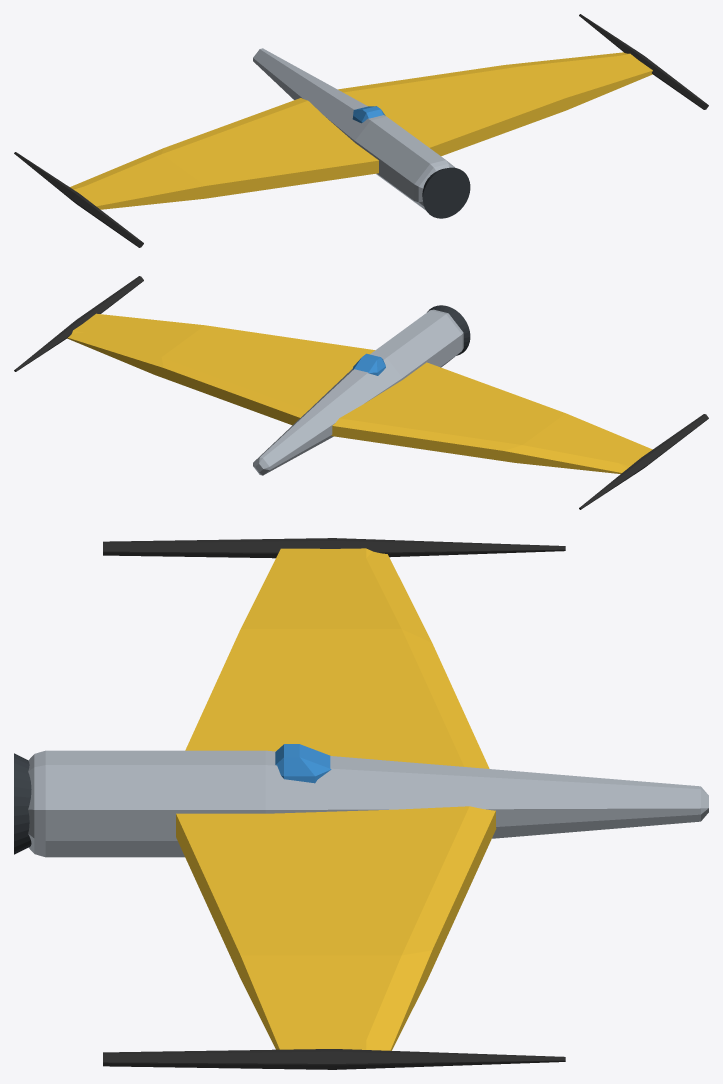
The model's file is spaceship.glb.
The picture shows the model from 3 angles, top to bottom: view 1: azimuth 30°, elevation 25°; view 2: azimuth 150°, elevation 25°; view 3: azimuth 270°, elevation 25°; orthographic projection. The views are drawn at different scales.
Visible parts, largest first — view 1: Cone; view 2: Cone; view 3: Cone.
Boxes of the visible parts, box(x1,y1,x2,y2) form: Cone: box(14, 14, 708, 247); Cone: box(14, 276, 708, 509); Cone: box(14, 538, 708, 1069).
Size of the model in its own units: 24.23 by 2.16 by 13.65.
